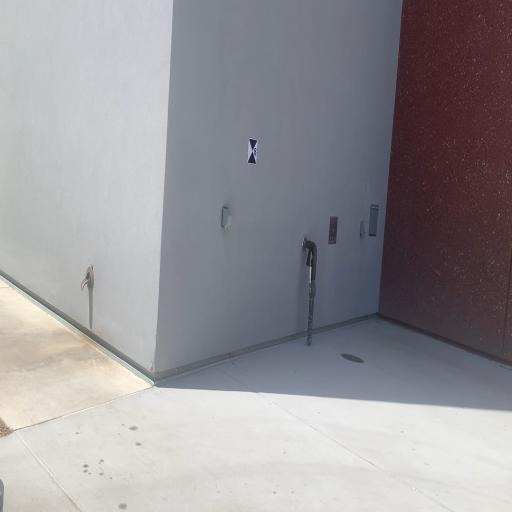target8: (248, 138, 258, 166)
